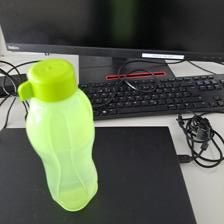bottle: (19, 53, 100, 211)
